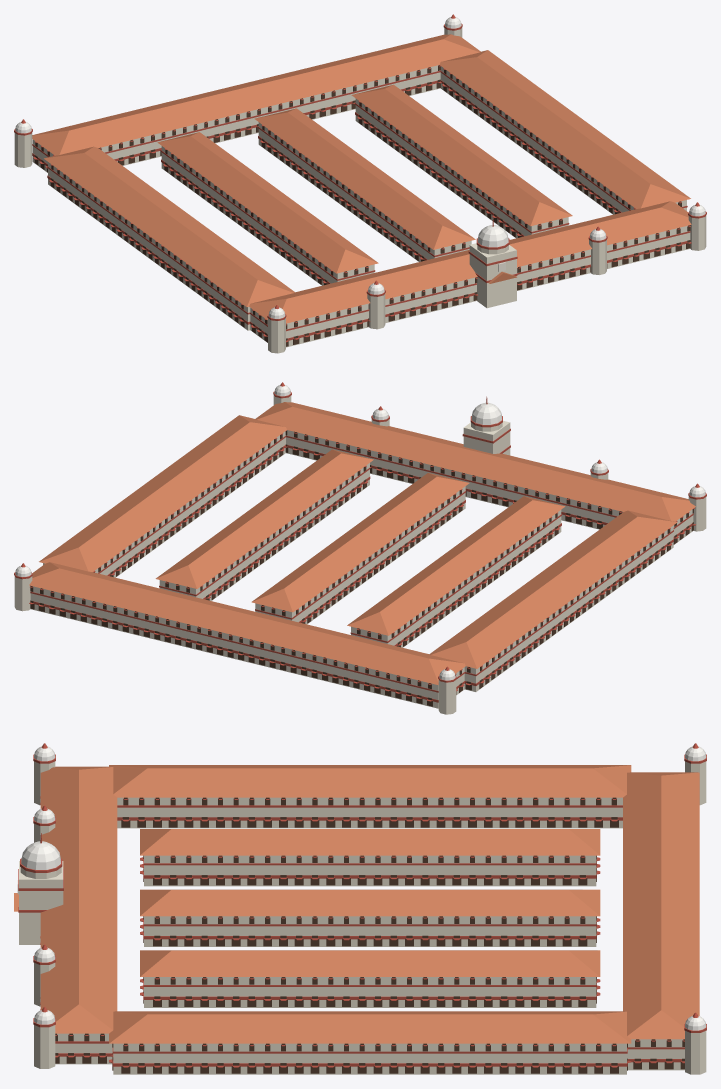
Rendered from bogyoke_market.glb.
3 renders of one model, top to bottom at view 1: azimuth 30°, elevation 25°; view 2: azimuth 150°, elevation 25°; view 3: azimuth 270°, elevation 25°, orthographic. The views are drawn at different scales.
Parts seen in each view (by area): view 1: part; view 2: part; view 3: part.
Part boxes in pixels (bbox=[...]): part: bbox=[14, 14, 706, 353]; part: bbox=[14, 382, 706, 714]; part: bbox=[14, 743, 706, 1074].
Size of the model in its own units: 6341554 by 1080963 by 6627976.
